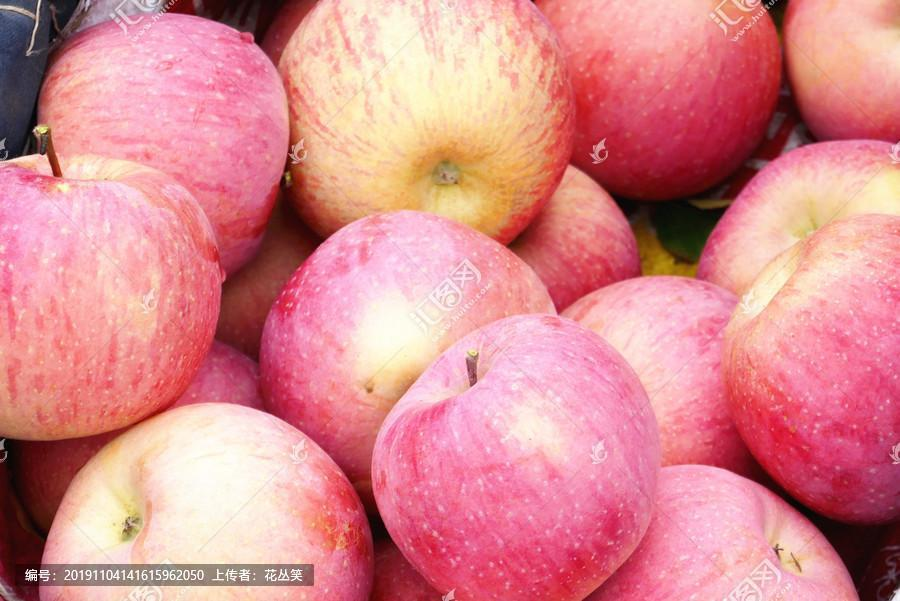apple: (255, 209, 558, 494), (372, 325, 659, 593), (26, 12, 285, 304), (281, 1, 577, 247), (21, 402, 370, 601), (1, 161, 235, 436), (720, 216, 900, 529), (527, 1, 781, 200), (558, 281, 752, 498), (683, 135, 899, 310), (586, 464, 865, 597), (782, 1, 899, 142), (10, 431, 114, 534)
